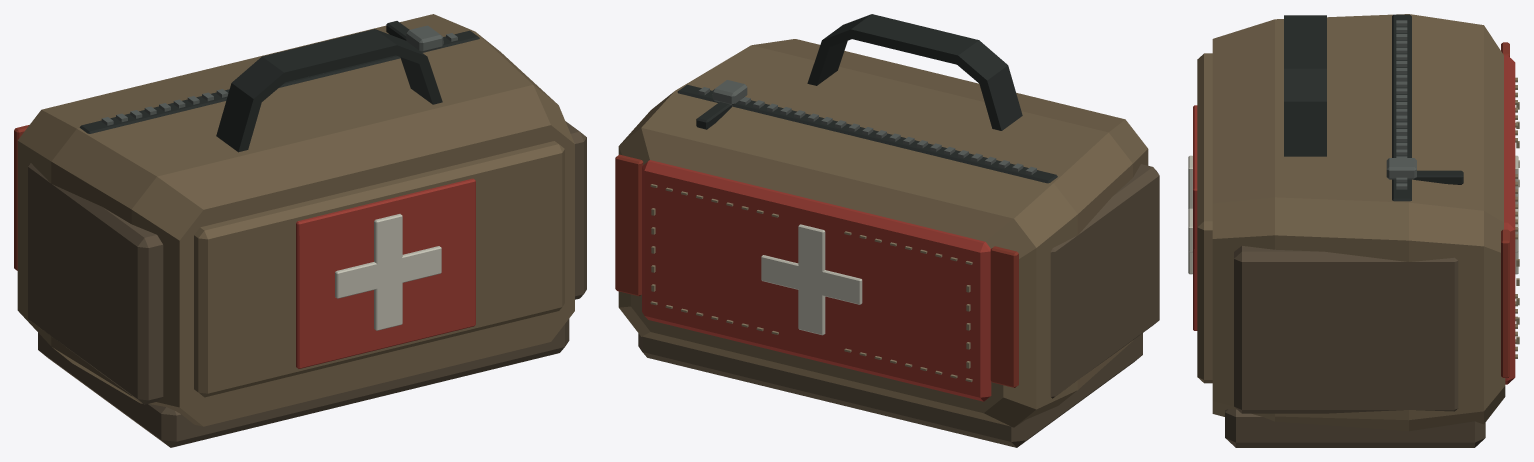
Rendered from medkit.glb.
3 renders of one model, left to right at view 1: azimuth 30°, elevation 25°; view 2: azimuth 150°, elevation 25°; view 3: azimuth 270°, elevation 25°, orthographic. The views are drawn at different scales.
Parts seen in each view (by area): view 1: Pouch, MedicalMark, Webbing; view 2: Pouch, Webbing, MedicalMark; view 3: Pouch, Webbing, MedicalMark, ZipperPull.
Part boxes in pixels (left/top/right/bottom): Pouch: left=14, top=14, right=586, bottom=447; MedicalMark: left=296, top=178, right=475, bottom=368; Webbing: left=79, top=25, right=479, bottom=152; Pouch: left=615, top=39, right=1159, bottom=447; Webbing: left=677, top=14, right=1057, bottom=183; MedicalMark: left=650, top=184, right=972, bottom=382; Pouch: left=1197, top=14, right=1515, bottom=447; Webbing: left=1284, top=14, right=1416, bottom=201; MedicalMark: left=1188, top=77, right=1519, bottom=358; ZipperPull: left=1413, top=170, right=1463, bottom=184.
Size of the model in its own units: 0.282 by 0.194 by 0.1854.
